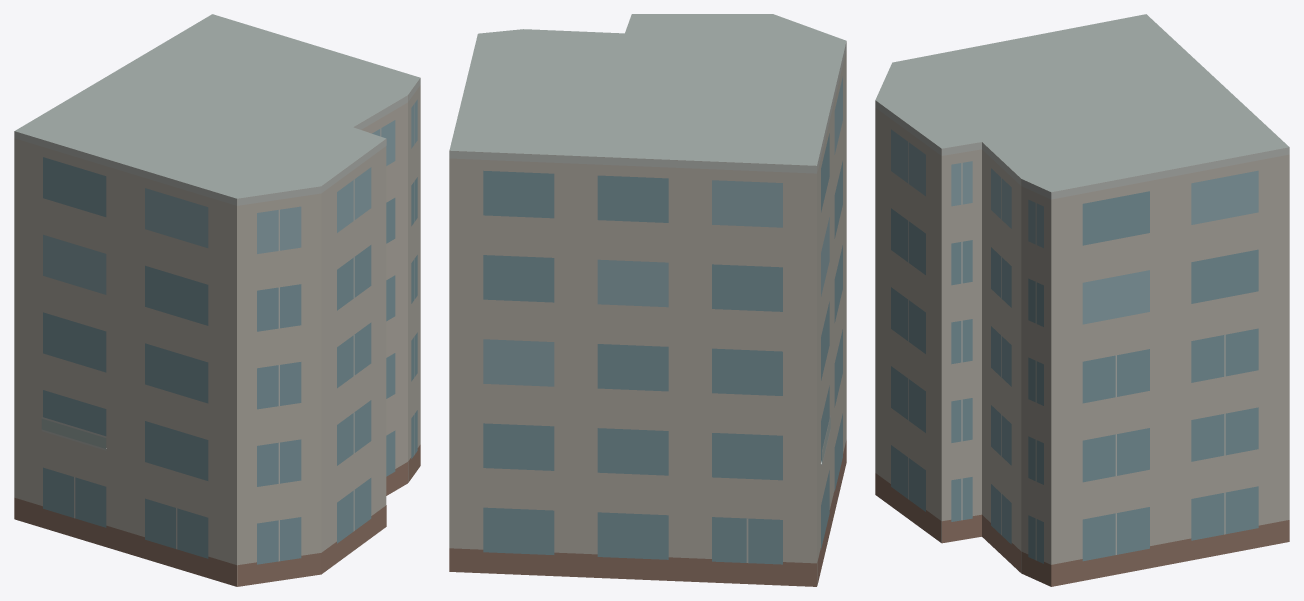
The model's file is survey-upis-32741896.glb.
3 renders of one model, left to right at view 1: azimuth 30°, elevation 25°; view 2: azimuth 150°, elevation 25°; view 3: azimuth 270°, elevation 25°, orthographic. The views are drawn at different scales.
Parts seen in each view (by area): view 1: survey-upis-32741896.tmp; view 2: survey-upis-32741896.tmp; view 3: survey-upis-32741896.tmp.
Boxes of the visible parts, x1,y1,x2,y2 form: survey-upis-32741896.tmp: (14, 14, 420, 586); survey-upis-32741896.tmp: (449, 14, 846, 586); survey-upis-32741896.tmp: (875, 14, 1289, 586).
Size of the model in its own units: 12.8 by 13.2 by 12.57.
